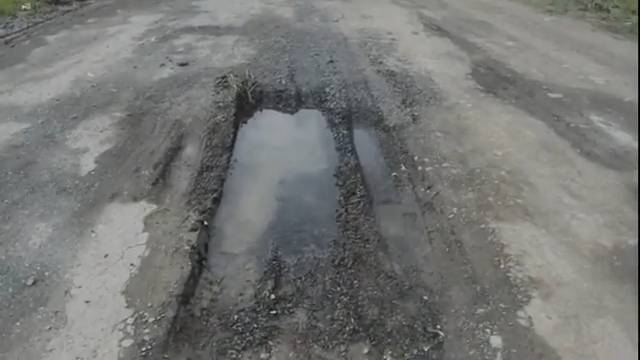pothole: (394, 81, 640, 360), (110, 181, 211, 347)
